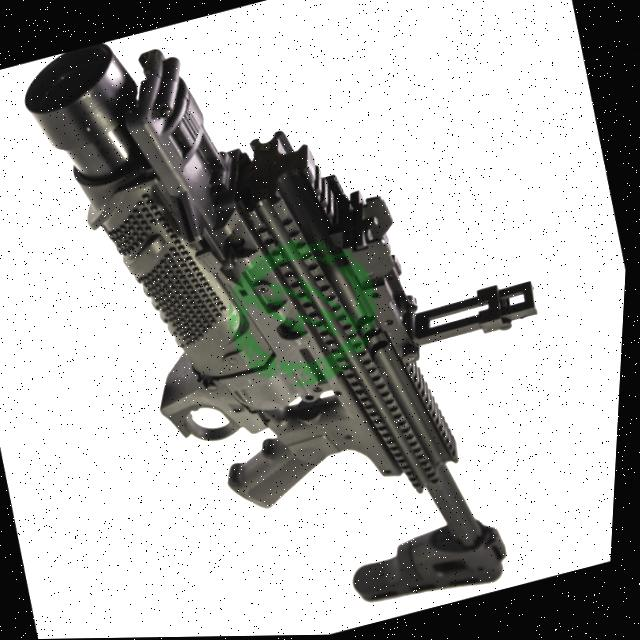firearm: (0, 0, 617, 640)
